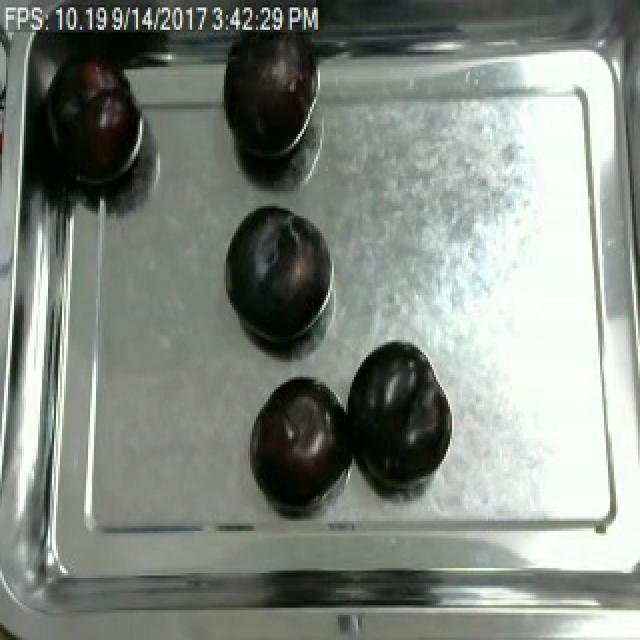Fruit: (338, 335, 450, 489), (218, 198, 328, 352), (46, 50, 152, 194), (246, 374, 340, 504)
